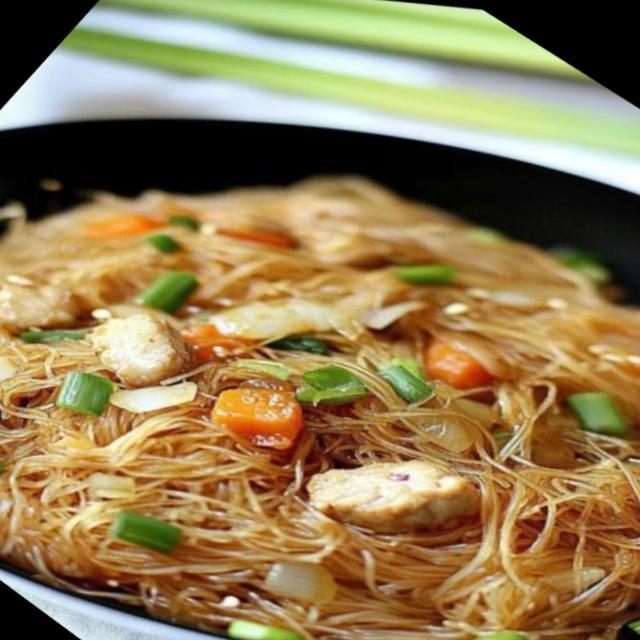pancit bihon: (0, 181, 639, 639)
